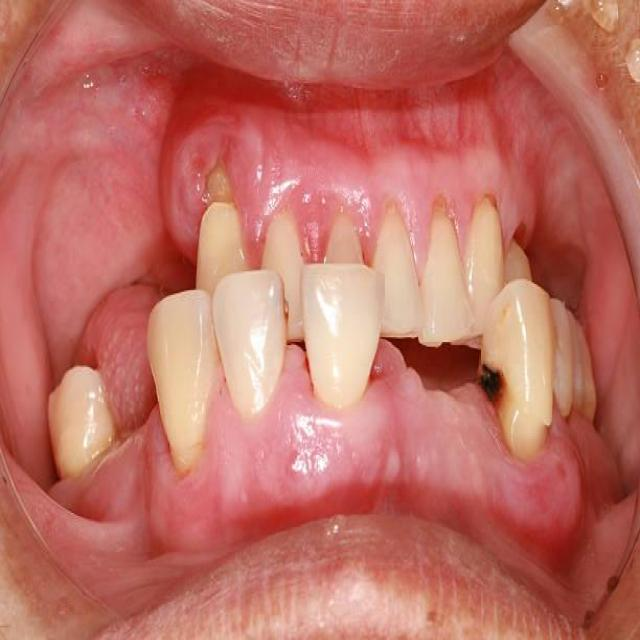caries: (478, 351, 522, 412)
